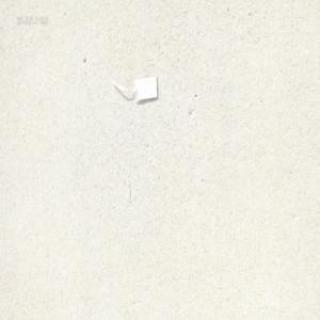LuggageTagtrack_idkeyframe: (109, 71, 160, 104)
